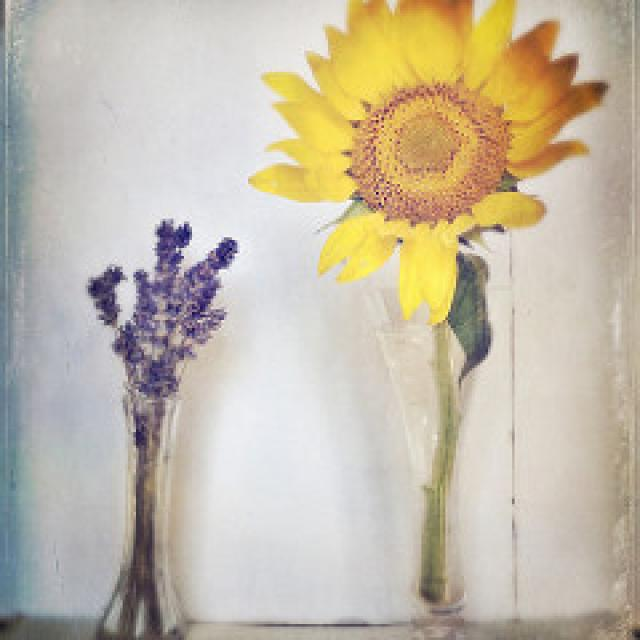sunflower: (263, 0, 613, 324)
